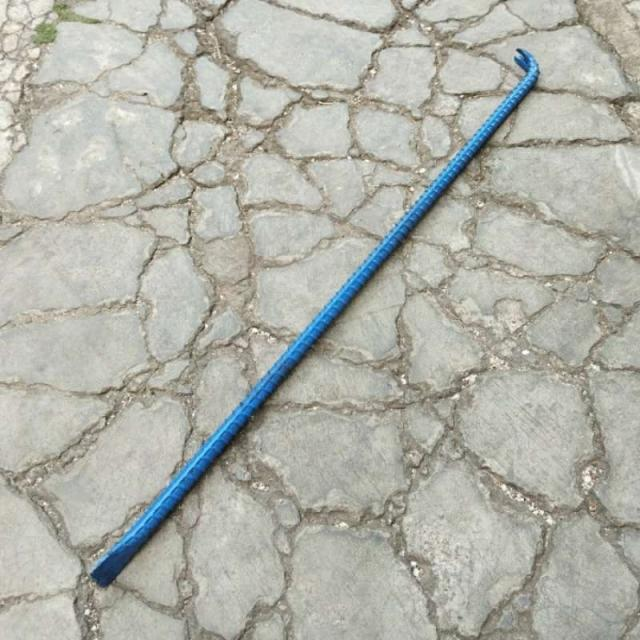Linggis: (88, 46, 541, 580)
